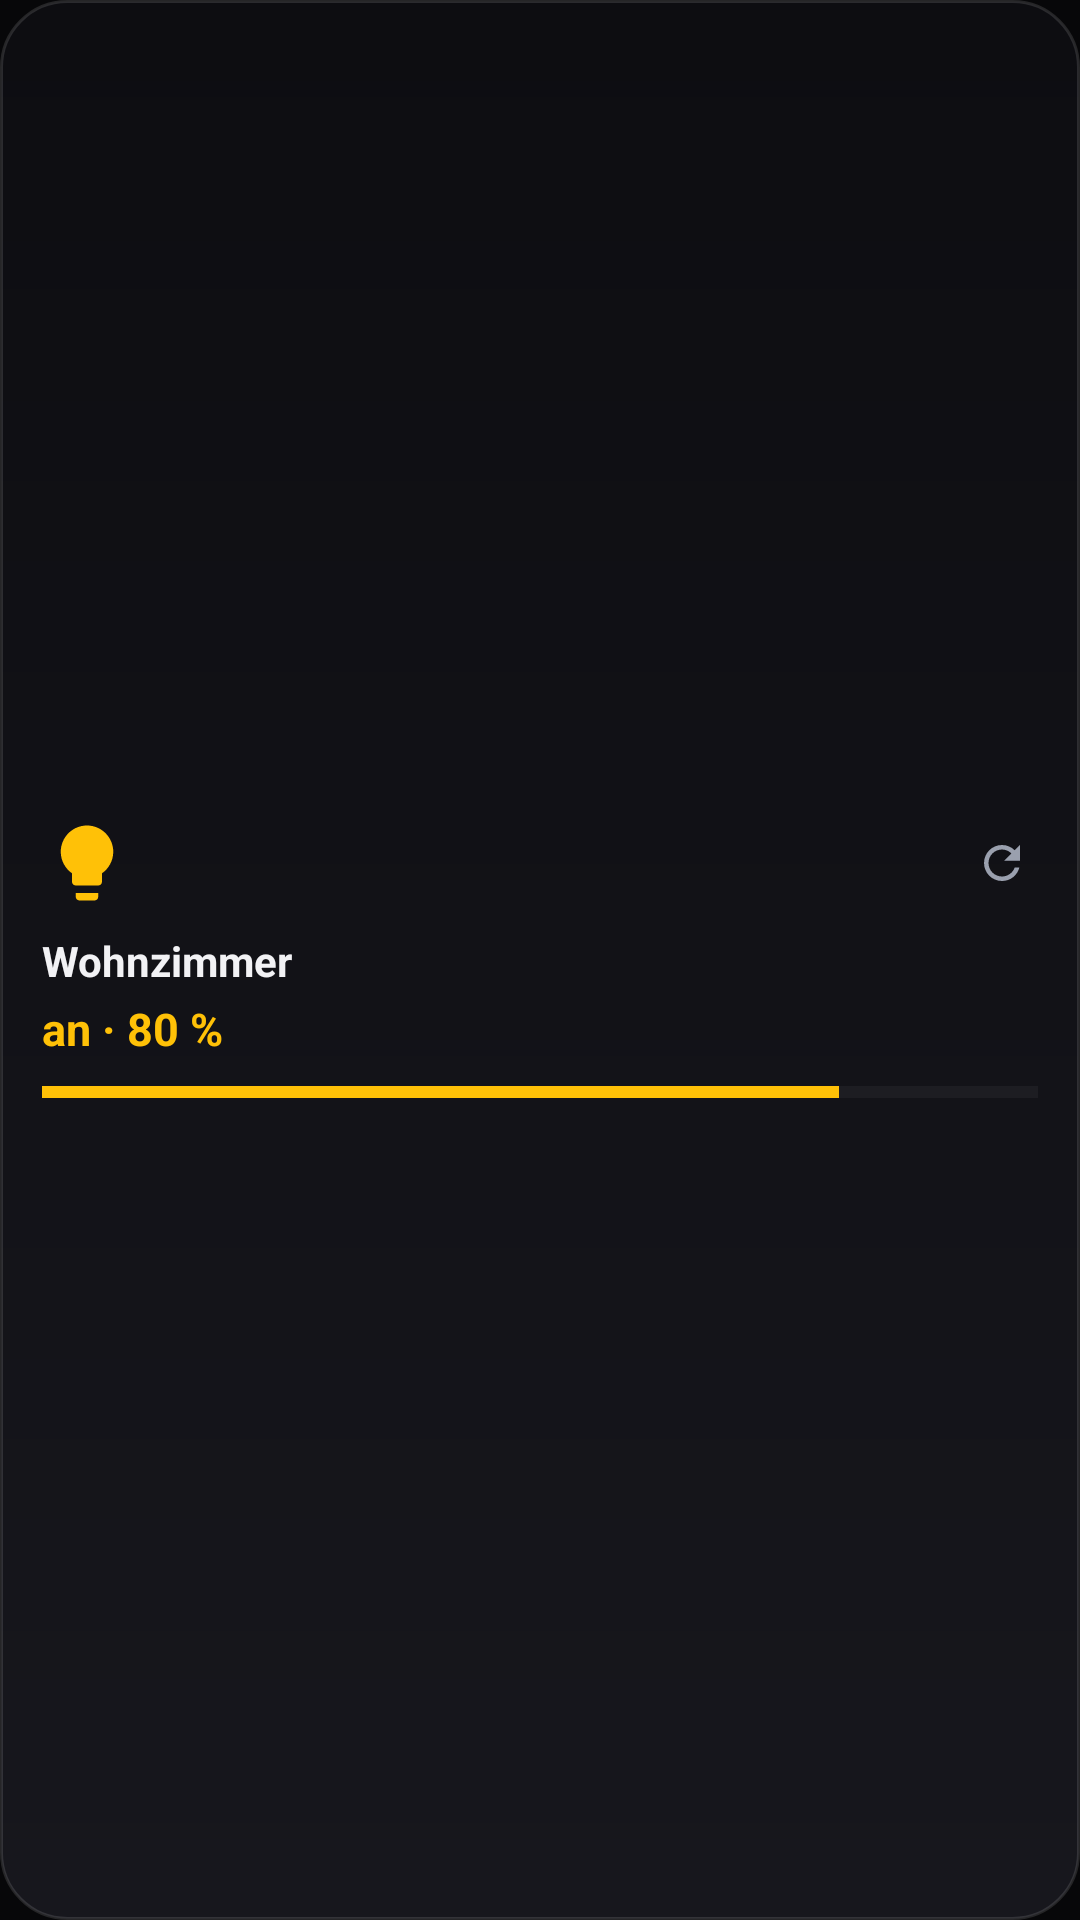

Point at icon controls on the screen. Image size 1080w x 1920h, points as point (x, y).
Aktualisieren: point (1002, 863)
